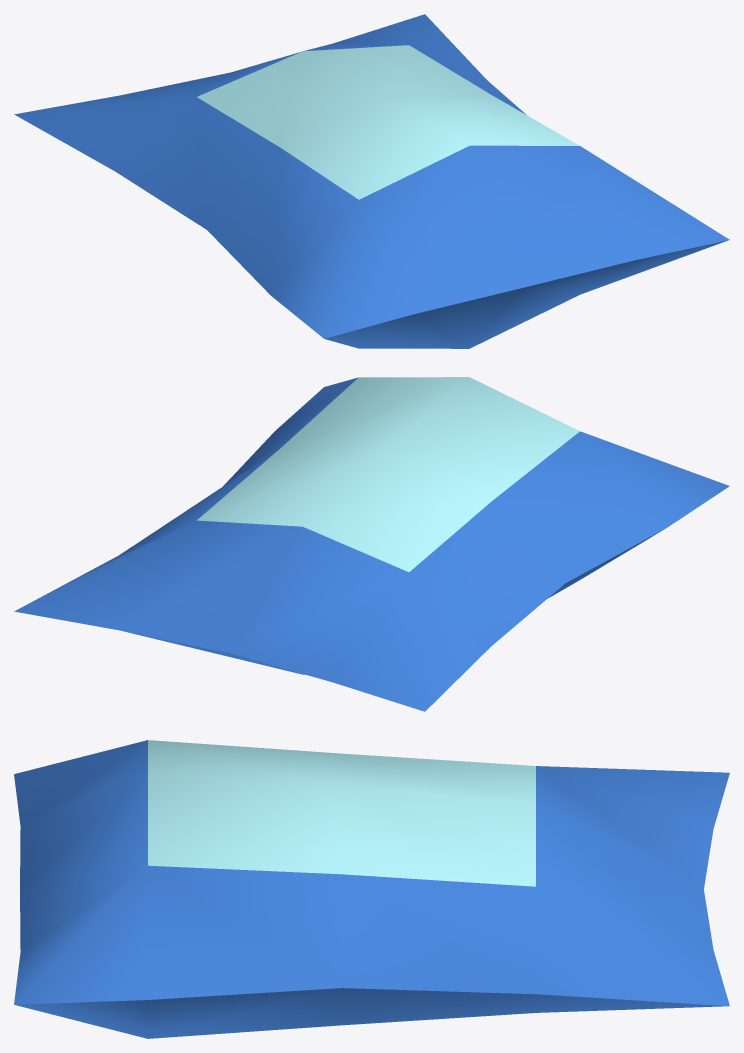
Rendered from Chips_Bag.fbx.
The picture shows the model from 3 angles, top to bottom: view 1: azimuth 30°, elevation 25°; view 2: azimuth 150°, elevation 25°; view 3: azimuth 270°, elevation 25°; orthographic projection. The views are drawn at different scales.
Parts seen in each view (by area): view 1: Chips_Bag; view 2: Chips_Bag; view 3: Chips_Bag.
Part boxes in pixels (box(x1,y1,x2,y2)): Chips_Bag: box(14, 14, 729, 348); Chips_Bag: box(14, 377, 729, 711); Chips_Bag: box(14, 740, 729, 1038).
Bounding box in the file's own units: 154 × 72.5 × 199.
